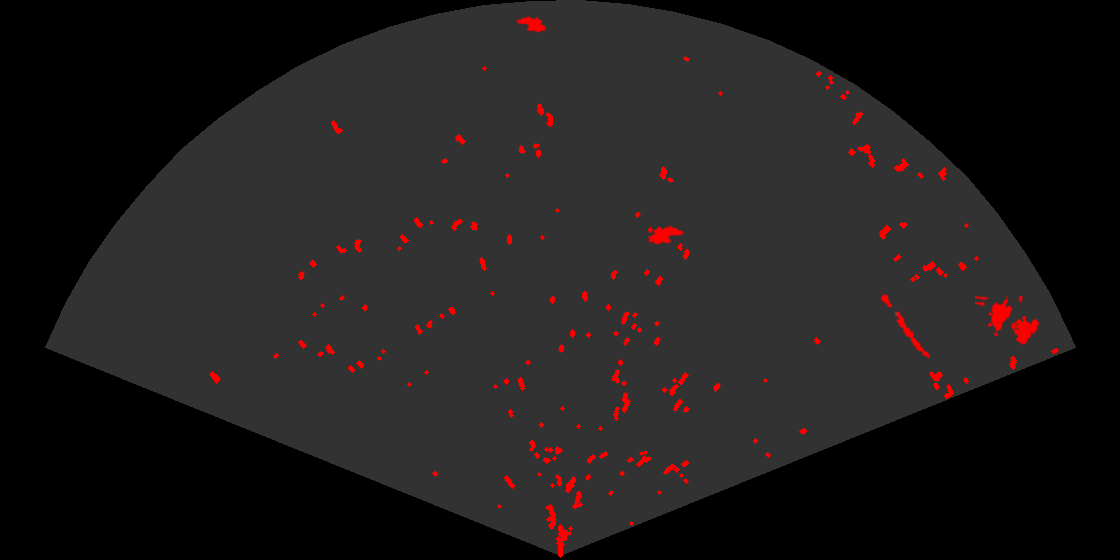AUV: (646, 224, 686, 246), (514, 14, 547, 34)
cage: (975, 296, 1041, 346)
chain: (876, 289, 932, 360)
